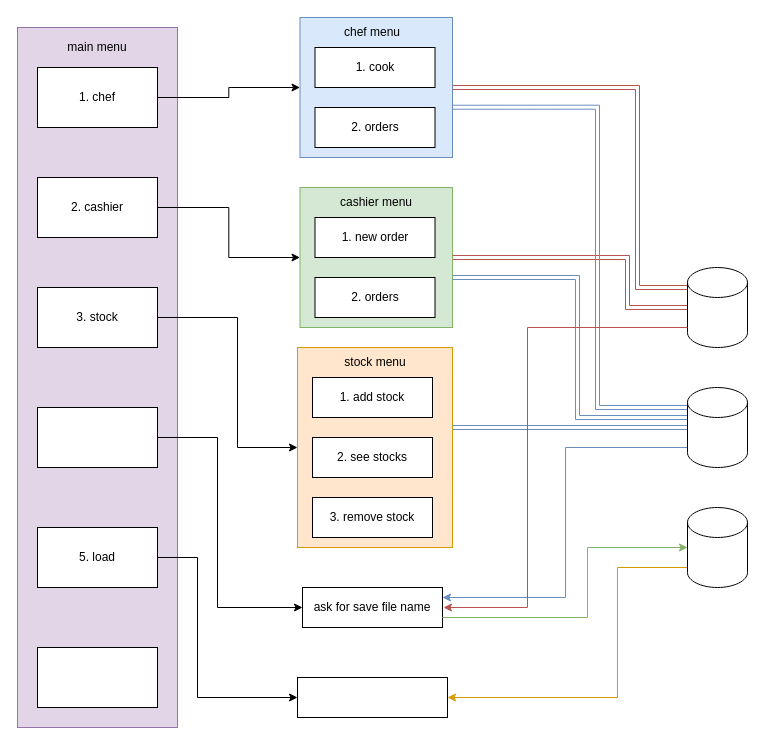
This 765x745 diagram has some shape labels left out. The centre of each missing label's shape, as x and y in pixels:
"0. exit" goes at point (97, 677).
"4. save" goes at point (97, 437).
"get all saved files and ask" goes at point (372, 697).
"orders" goes at point (717, 307).
"saves" goes at point (717, 547).
"stocks" goes at point (717, 427).
